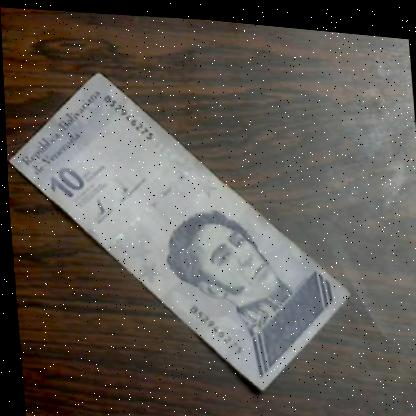vef_front: (2, 54, 357, 403)
